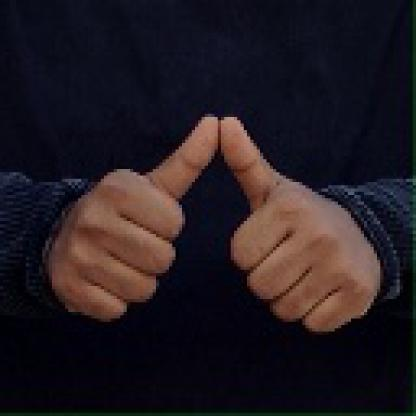A: (37, 110, 396, 335)
